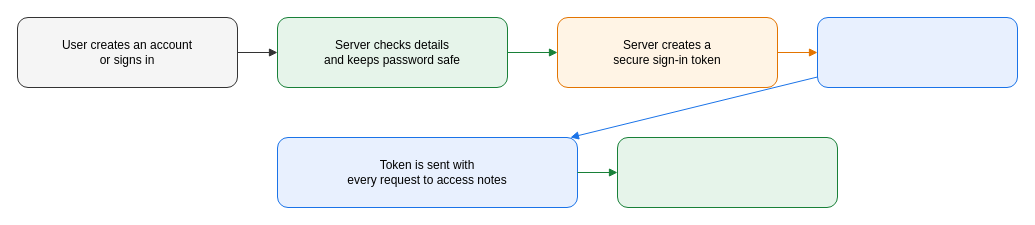
Some shapes in this 1035 by 225 pixel diagram are drawn without their labels. The centre of each missing label's shape, as x and y in pixels:
App stores token on the device: [917,52]
Server verifies token and allows access: [727,172]
